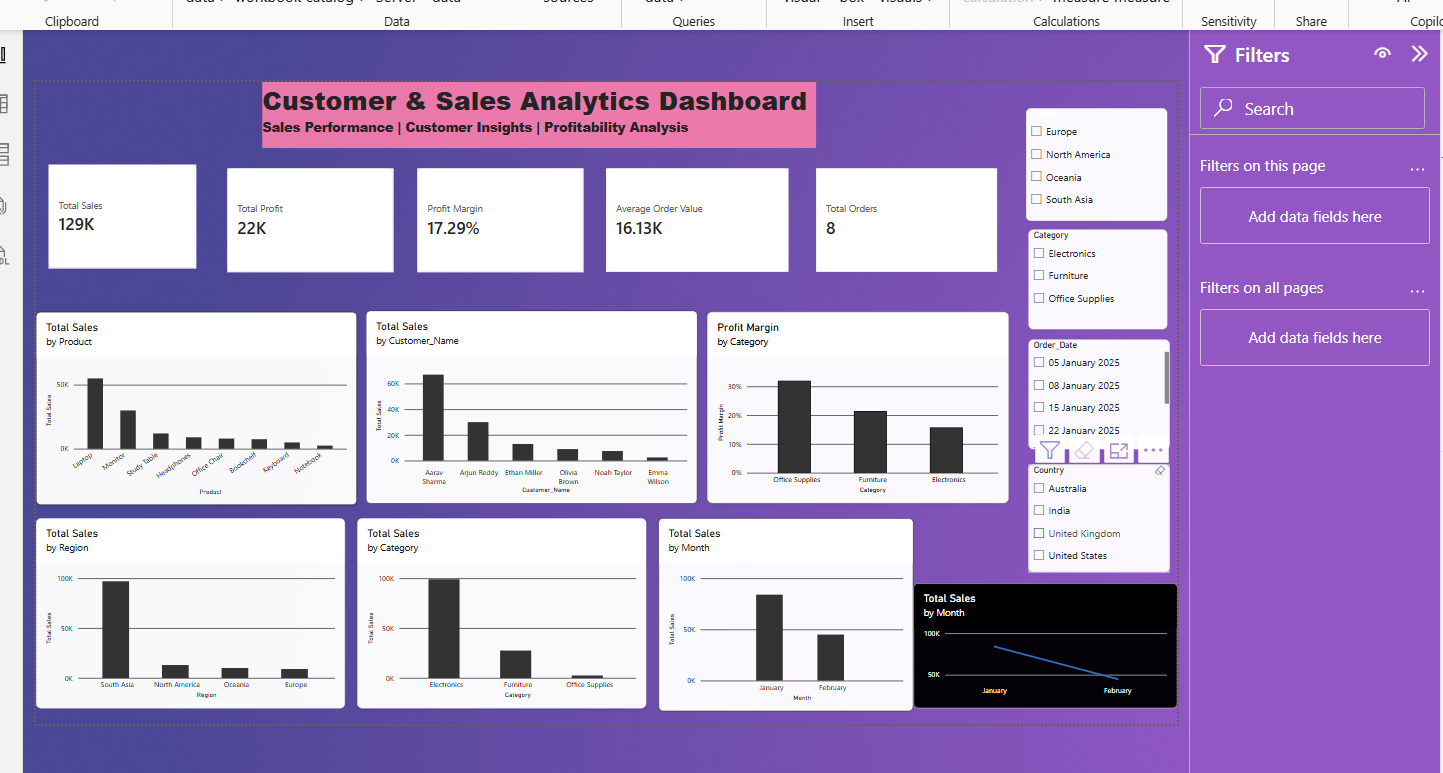

This screenshot's page, from the dashboard's own definition file:
{"tool":"powerbi","page":{"name":"Page 1","canvas":[1920,1080],"ordinal":0},"visuals":[{"type":"cardVisual","fields":{"Data":["Sheet1.Total Profit"]},"box":[321.8,145.1,279.9,175],"z":1000},{"type":"cardVisual","fields":{"Data":["Sheet1.Total Orders"]},"box":[1312.5,145.1,305,174.6],"z":2000},{"type":"cardVisual","fields":{"Data":["Sheet1.Profit Margin"]},"box":[641.5,145.1,279.9,175],"z":4000},{"type":"clusteredColumnChart","fields":{"Category":["Sheet1.Category"],"Y":["Sheet1.Total Sales"]},"box":[540,733.3,486.7,320],"z":5000},{"type":"clusteredColumnChart","fields":{"Category":["Sheet1.Region"],"Y":["Sheet1.Total Sales"]},"box":[0,733.3,520,320],"z":6000},{"type":"clusteredColumnChart","fields":{"Category":["Sheet1.Product"],"Y":["Sheet1.Total Sales"]},"box":[0,386.7,540,324.4],"z":7000},{"type":"clusteredColumnChart","fields":{"Category":["Sheet1.Customer_Name"],"Y":["Sheet1.Total Sales"]},"box":[555.6,384.4,557.8,324.4],"z":8000},{"type":"clusteredColumnChart","fields":{"Category":["Sheet1.Order_Date.Variation.Date Hierarchy.Month"],"Y":["Sheet1.Total Sales"]},"box":[1047.5,734.1,428.9,324.4],"z":9000},{"type":"clusteredColumnChart","fields":{"Category":["Sheet1.Category"],"Y":["Sheet1.Profit Margin"]},"box":[1129.5,387,506.9,321.8],"z":10000},{"type":"slicer","fields":{"Values":["Sheet1.Order_Date"]},"box":[1670.1,433.3,237.7,185.1],"z":11000},{"type":"slicer","fields":{"Values":["Sheet1.Region"]},"box":[1665.9,44.2,237.7,189.3],"z":12000},{"type":"slicer","fields":{"Values":["Sheet1.Category"]},"box":[1670.1,248.2,233.5,168.3],"z":13000},{"type":"slicer","fields":{"Values":["Sheet1.Country"]},"box":[1670.1,643.6,237.7,180.9],"z":14000},{"type":"cardVisual","fields":{"Data":["Sheet1.Total Sales"]},"box":[21,138.8,249.1,175],"z":14001},{"type":"lineChart","fields":{"Category":["Sheet1.Order_Date.Variation.Date Hierarchy.Month"],"Y":["Sheet1.Total Sales"]},"box":[1476.6,843.5,443.8,210.3],"z":14002},{"type":"textbox","box":[380.7,0,931.8,111.5],"z":14003},{"type":"cardVisual","fields":{"Data":["Sheet1.Average Order Value"]},"box":[959.2,145.1,307.1,174.6],"z":14004}]}

Visuals, with their boxes on the page's 1920x1080 design canvas (x1, y1, x2, y2). These are canvas units, not pixel positions in the 1443x773 screenshot, which may show the page scaled, cropped or inside an application window:
cardVisual - Sheet1.Total Profit: (x1=322, y1=145, x2=602, y2=320)
cardVisual - Sheet1.Total Orders: (x1=1312, y1=145, x2=1618, y2=320)
cardVisual - Sheet1.Profit Margin: (x1=642, y1=145, x2=921, y2=320)
clusteredColumnChart - Sheet1.Category x Sheet1.Total Sales: (x1=540, y1=733, x2=1027, y2=1053)
clusteredColumnChart - Sheet1.Region x Sheet1.Total Sales: (x1=0, y1=733, x2=520, y2=1053)
clusteredColumnChart - Sheet1.Product x Sheet1.Total Sales: (x1=0, y1=387, x2=540, y2=711)
clusteredColumnChart - Sheet1.Customer_Name x Sheet1.Total Sales: (x1=556, y1=384, x2=1113, y2=709)
clusteredColumnChart - Sheet1.Order_Date.Variation.Date Hierarchy.Month x Sheet1.Total Sales: (x1=1048, y1=734, x2=1476, y2=1058)
clusteredColumnChart - Sheet1.Category x Sheet1.Profit Margin: (x1=1130, y1=387, x2=1636, y2=709)
slicer - Sheet1.Order_Date: (x1=1670, y1=433, x2=1908, y2=618)
slicer - Sheet1.Region: (x1=1666, y1=44, x2=1904, y2=234)
slicer - Sheet1.Category: (x1=1670, y1=248, x2=1904, y2=416)
slicer - Sheet1.Country: (x1=1670, y1=644, x2=1908, y2=824)
cardVisual - Sheet1.Total Sales: (x1=21, y1=139, x2=270, y2=314)
lineChart - Sheet1.Order_Date.Variation.Date Hierarchy.Month x Sheet1.Total Sales: (x1=1477, y1=844, x2=1920, y2=1054)
textbox: (x1=381, y1=0, x2=1312, y2=112)
cardVisual - Sheet1.Average Order Value: (x1=959, y1=145, x2=1266, y2=320)
